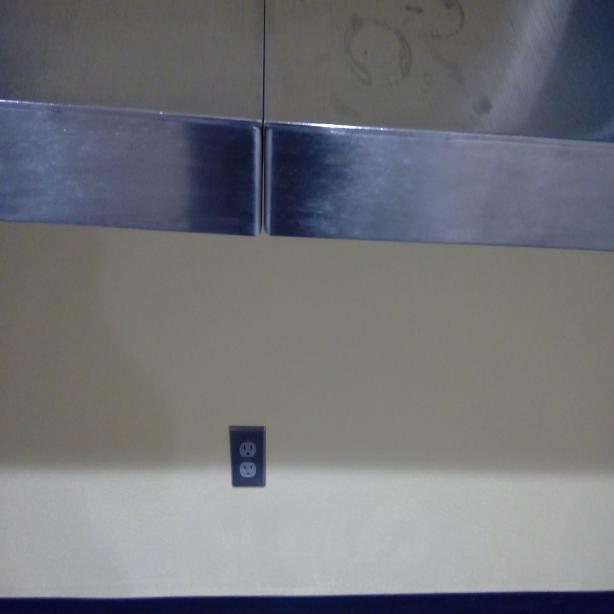typeb: (240, 442, 256, 460), (240, 463, 259, 478)
